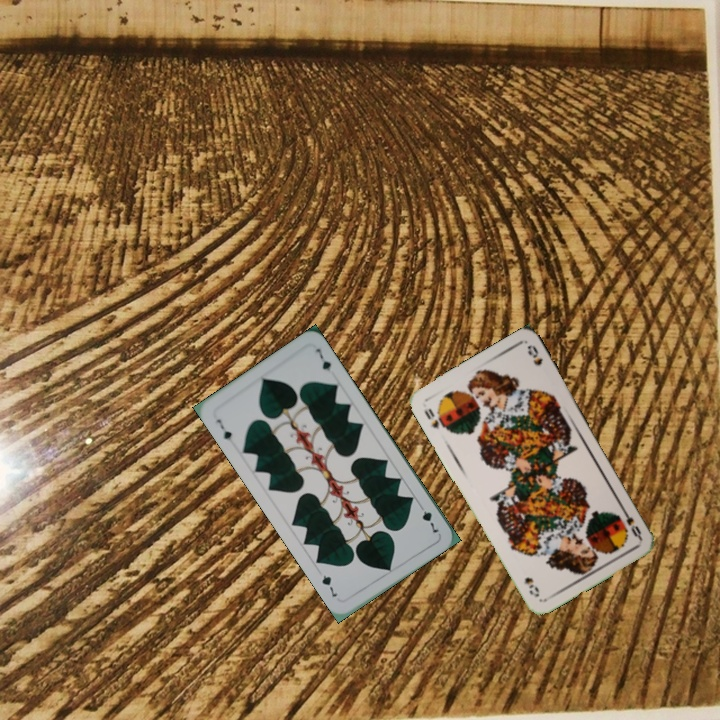G7: (415, 500, 441, 536), (212, 415, 235, 443)
SO: (617, 504, 644, 541), (420, 404, 447, 432)
